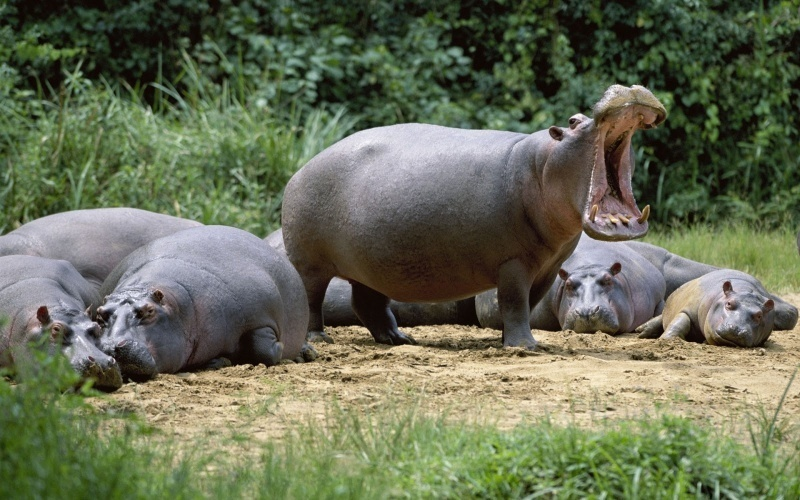hipopotamo: (281, 85, 672, 346), (95, 224, 315, 377), (1, 251, 123, 401), (531, 230, 669, 354), (645, 266, 800, 360)
